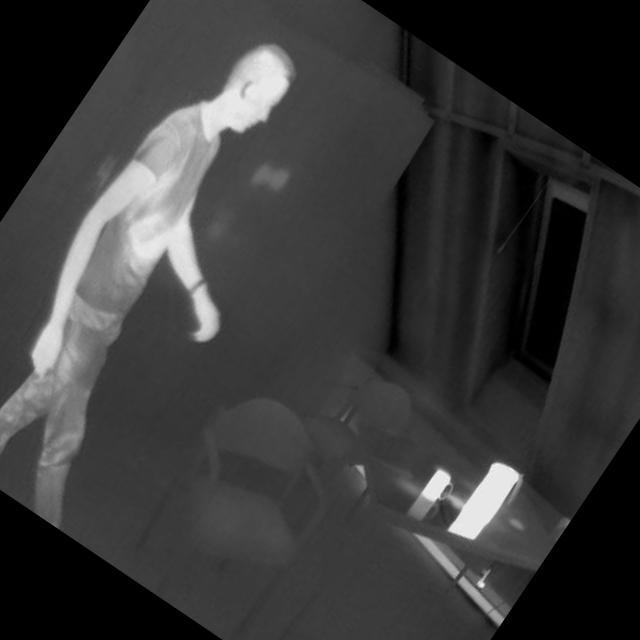person: (0, 0, 382, 543)
